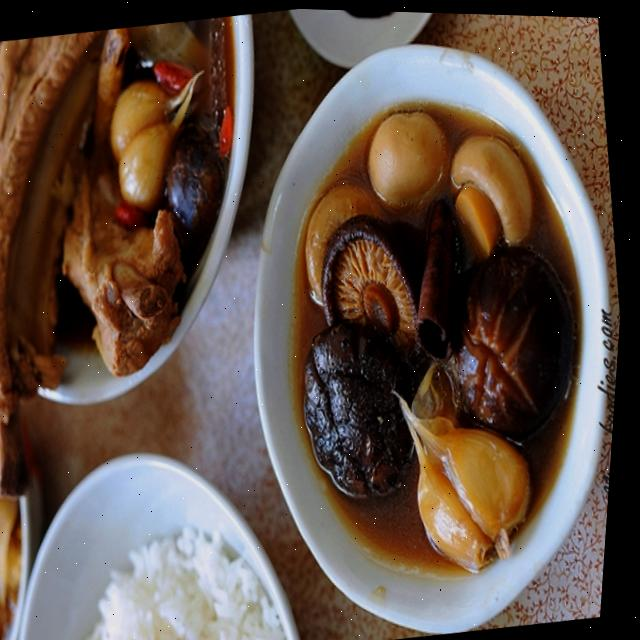汤锅炖物: (190, 19, 639, 640)
